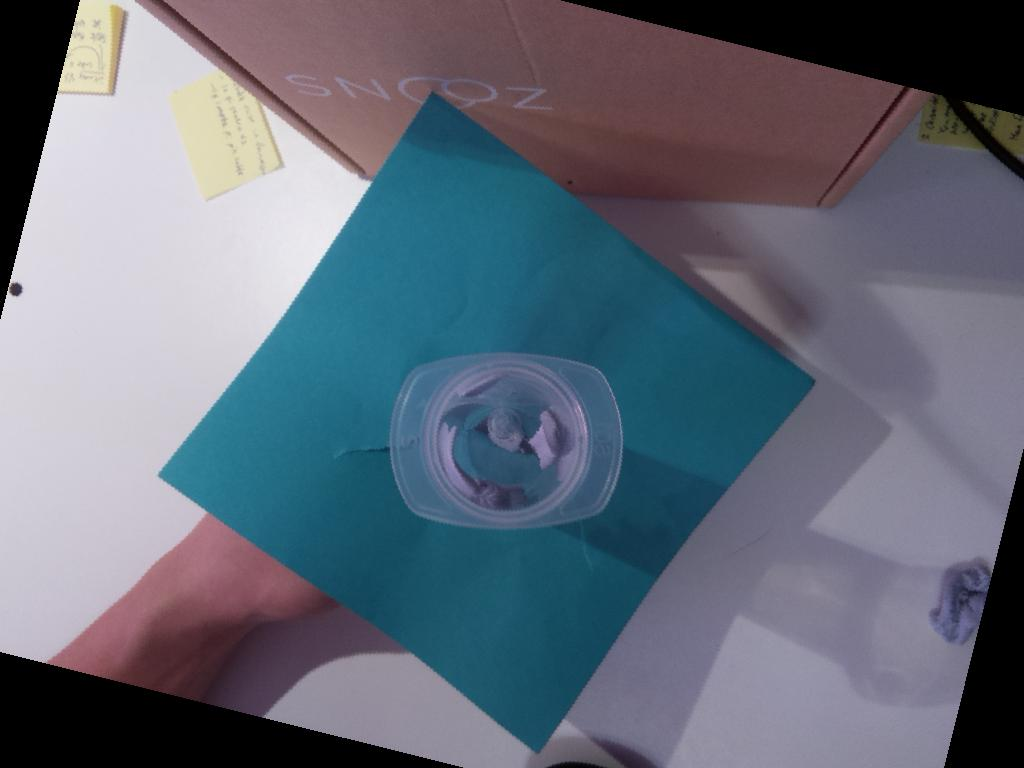dirty: (390, 349, 623, 528)
